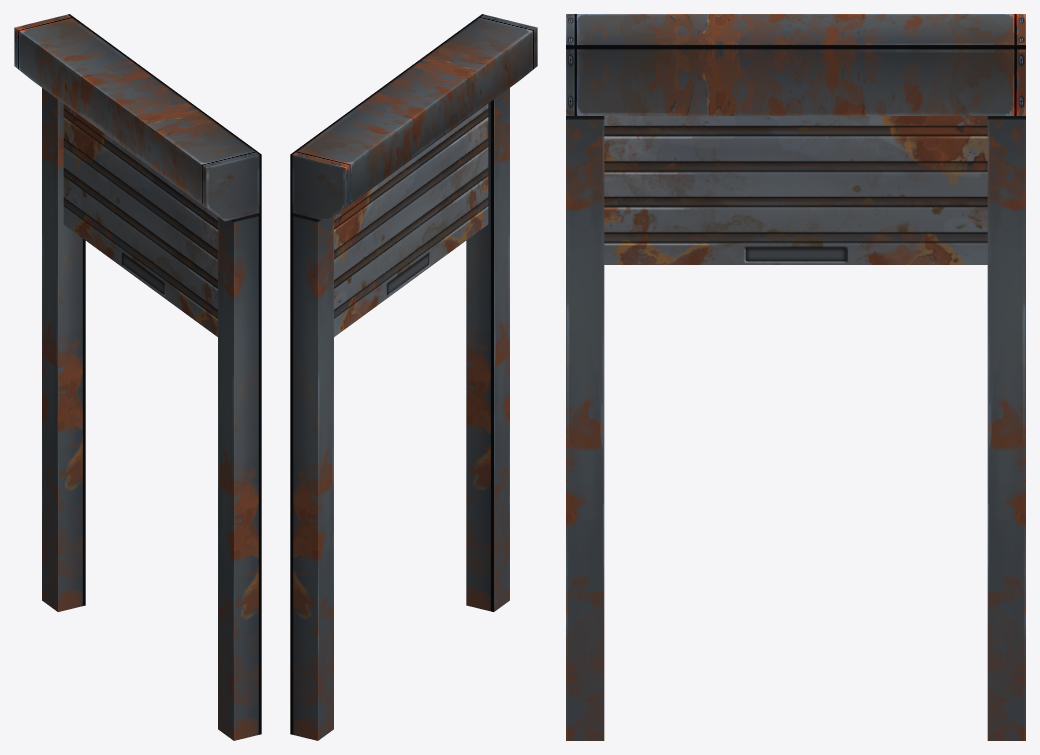
The model's file is rollerShutter04_2m.fbx.
3 views of the same model, side by side, from view 1: azimuth 30°, elevation 25°; view 2: azimuth 150°, elevation 25°; view 3: azimuth 270°, elevation 25° (orthographic). The views are drawn at different scales.
Visible parts, largest first — view 1: rollerShutter04_2m; view 2: rollerShutter04_2m; view 3: rollerShutter04_2m.
Boxes of the visible parts, x1,y1,x2,y2 form: rollerShutter04_2m: [14, 14, 261, 740]; rollerShutter04_2m: [290, 14, 537, 740]; rollerShutter04_2m: [566, 14, 1025, 740].
Size of the model in its own units: 30 by 300 by 180.
